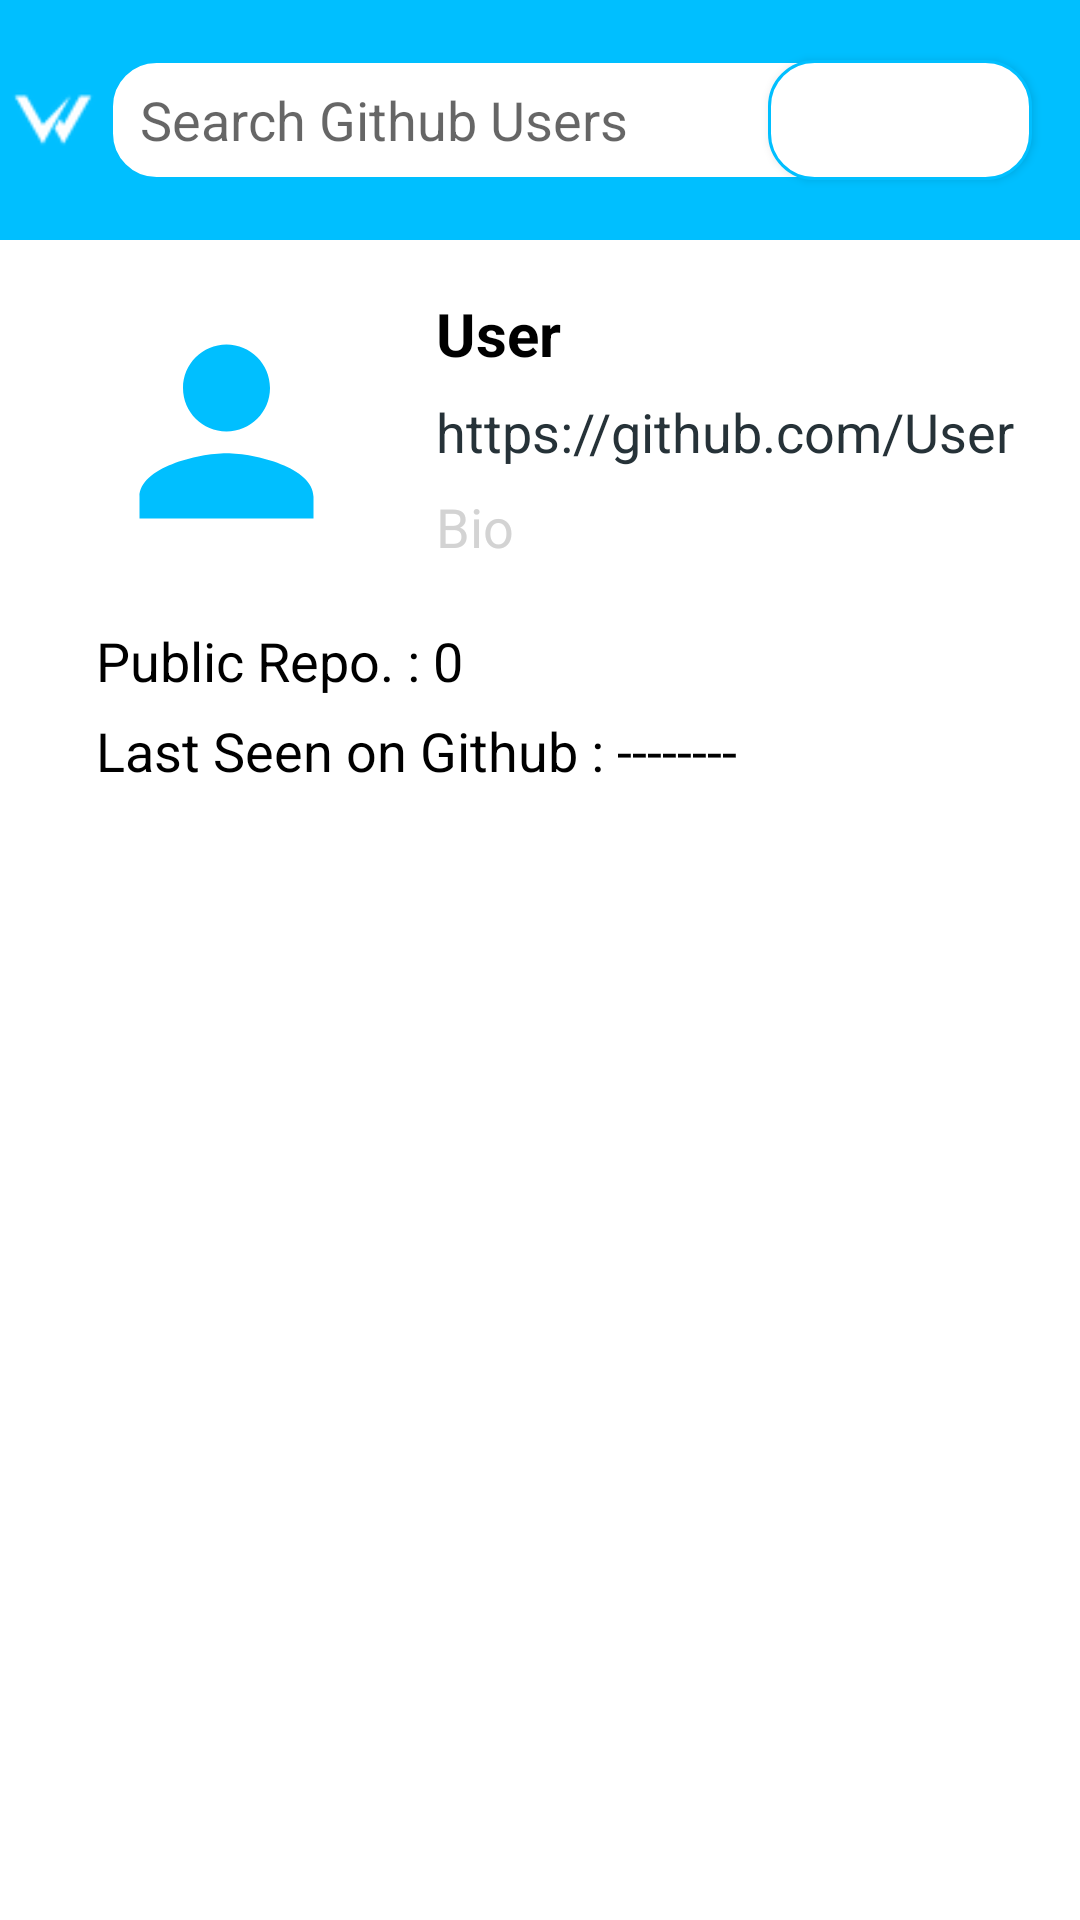

Locate icon controls on the screen. Image size 1080 × 1920, boxes as (x1, y1, x2, y2).
profile: (139, 344, 314, 519)
